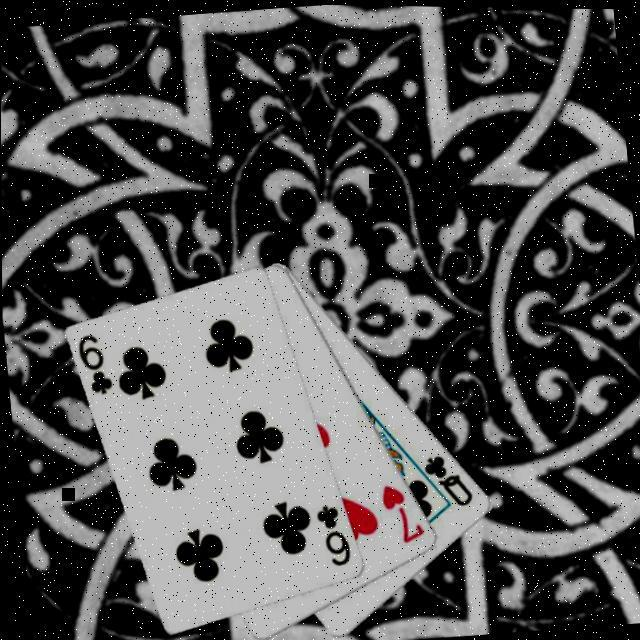6C: (74, 330, 118, 400), (312, 500, 355, 570)
7H: (376, 478, 428, 548)
QC: (420, 448, 478, 511)
